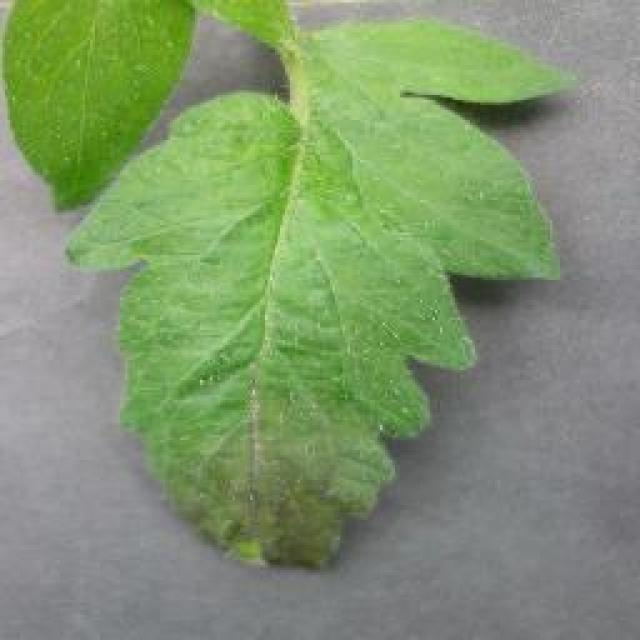Tomato Late Blight: (154, 367, 364, 583)
